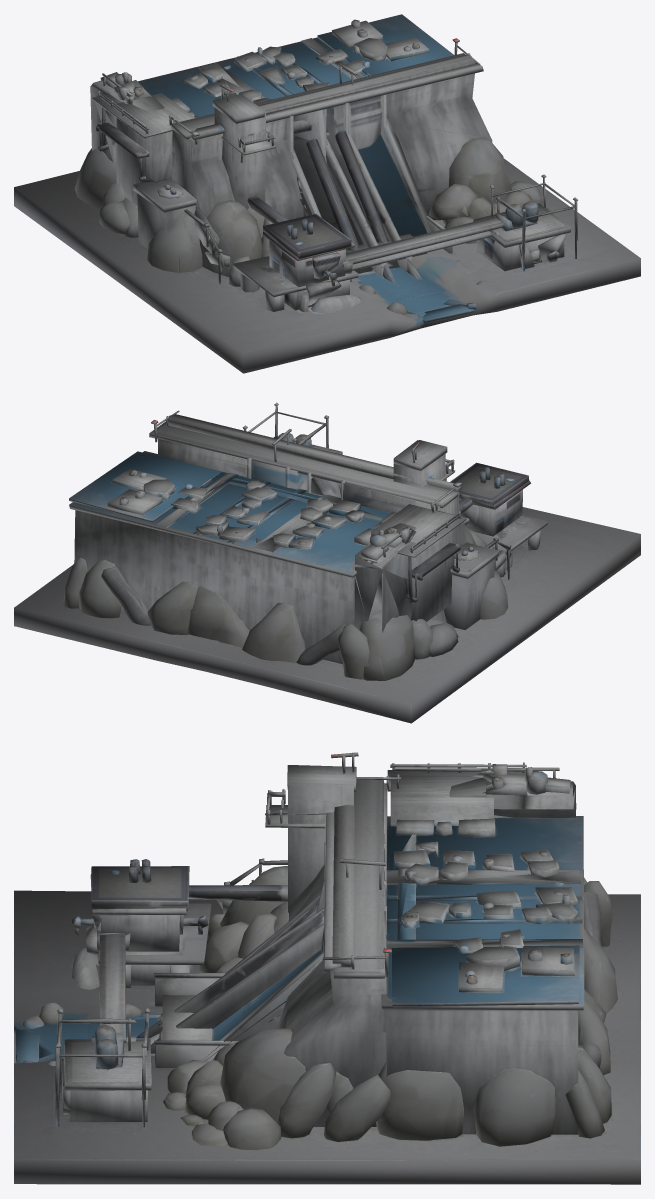
File: Hidroelektrik Santrali.fbx
3 views of the same model, one above another, from view 1: azimuth 30°, elevation 25°; view 2: azimuth 150°, elevation 25°; view 3: azimuth 270°, elevation 25° (orthographic). The views are drawn at different scales.
Visible parts, largest first — view 1: Mesh_0; view 2: Mesh_0; view 3: Mesh_0.
Part boxes in pixels (box(x1,y1,x2,y2)): Mesh_0: box(14, 14, 640, 373); Mesh_0: box(14, 402, 640, 723); Mesh_0: box(14, 752, 640, 1184).
Size of the model in its own units: 100 by 44.87 by 100.
1 material, 1 textured.
